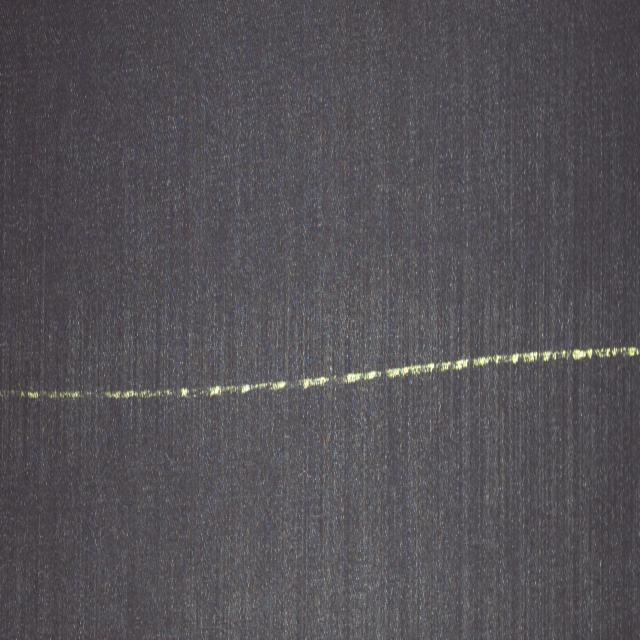defect: (0, 336, 638, 416)
